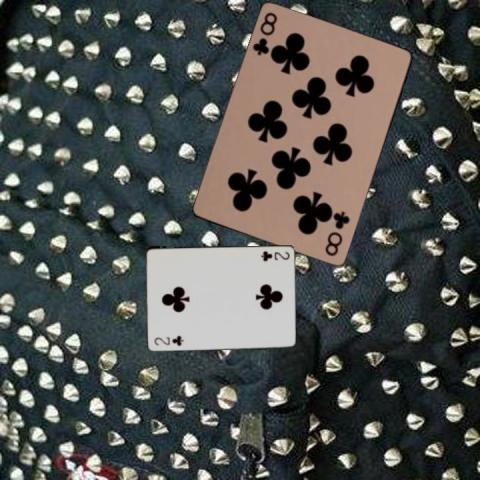2c: (151, 333, 185, 347), (258, 248, 291, 261)
8c: (250, 10, 280, 58), (322, 209, 351, 258)
